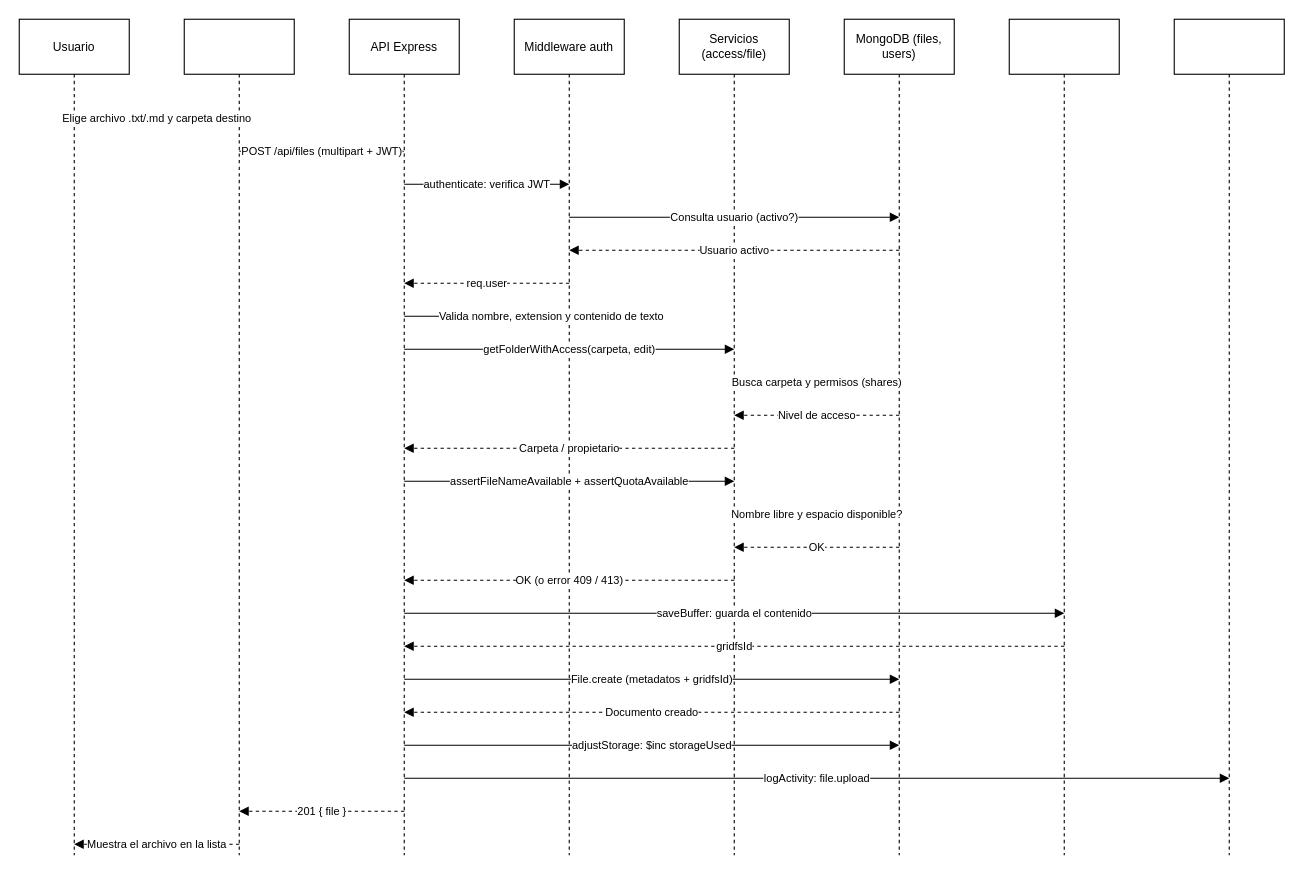
Image size: 1304x875. Some labels were removed from this diagram. The box of each missing label's shape, as (x1, y1, x2, y2) in pixels:
activity_logs: (1173, 18, 1284, 855)
Cliente Angular: (183, 18, 294, 855)
GridFS (fs.files/chunks): (1008, 18, 1119, 855)
